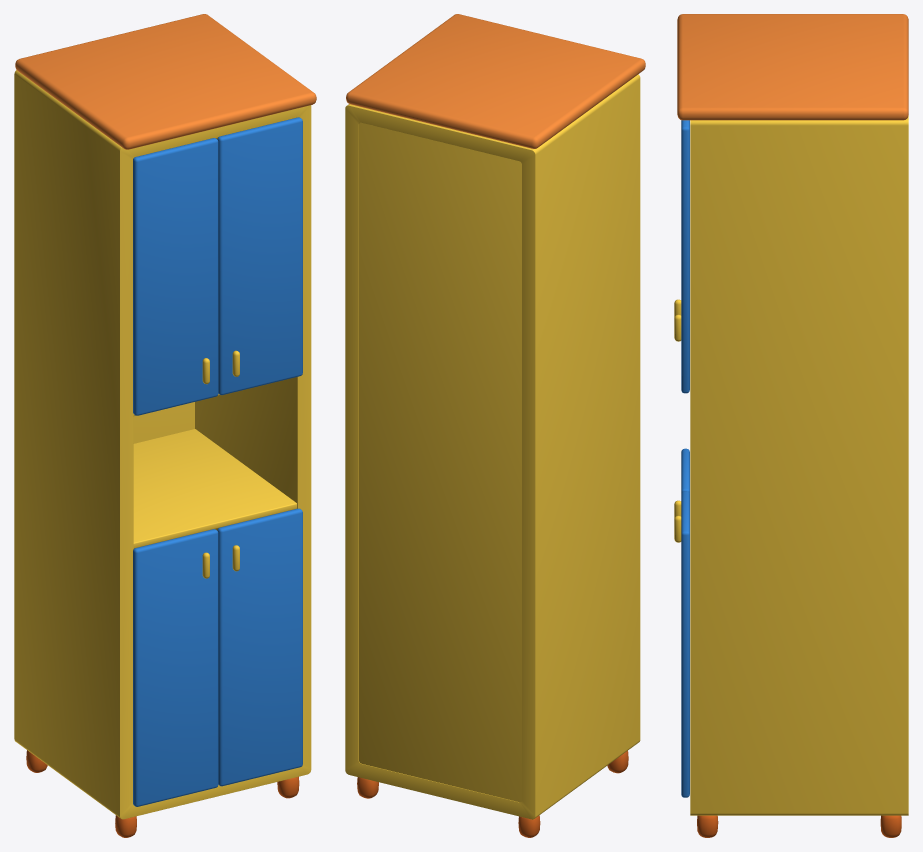
Rendered from paneleiro_moderna.glb.
3 renders of one model, left to right at view 1: azimuth 30°, elevation 25°; view 2: azimuth 150°, elevation 25°; view 3: azimuth 270°, elevation 25°, orthographic. The views are drawn at different scales.
Visible parts, largest first — view 1: paneleiro_moderna, porta_1, porta_3, porta_4, porta_2; view 2: paneleiro_moderna; view 3: paneleiro_moderna, porta_4, porta_2, porta_3.
Boxes of the visible parts, x1=… form: paneleiro_moderna: x1=14, y1=14, x2=316, y2=837; porta_1: x1=133, y1=138, x2=218, y2=415; porta_3: x1=133, y1=529, x2=218, y2=806; porta_4: x1=217, y1=508, x2=302, y2=786; porta_2: x1=217, y1=117, x2=302, y2=395; paneleiro_moderna: x1=345, y1=14, x2=645, y2=837; paneleiro_moderna: x1=677, y1=14, x2=908, y2=837; porta_4: x1=674, y1=491, x2=689, y2=797; porta_2: x1=674, y1=120, x2=689, y2=393; porta_3: x1=674, y1=448, x2=689, y2=518.
Size of the model in its own units: 0.598 by 2.1 by 0.607.
Materials: 1 (1 with a texture image).
